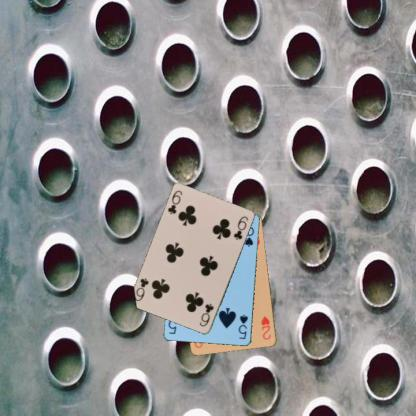2h: (259, 314, 272, 341)
5s: (236, 312, 249, 340)
6c: (165, 188, 184, 216), (197, 301, 215, 328)
